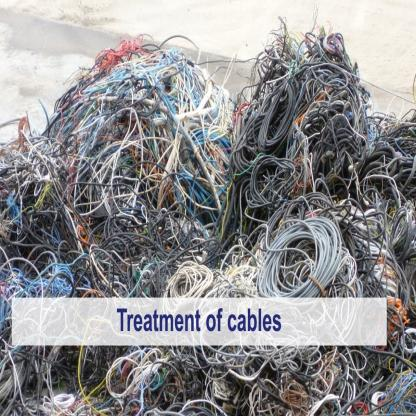wires: (1, 4, 416, 415)
